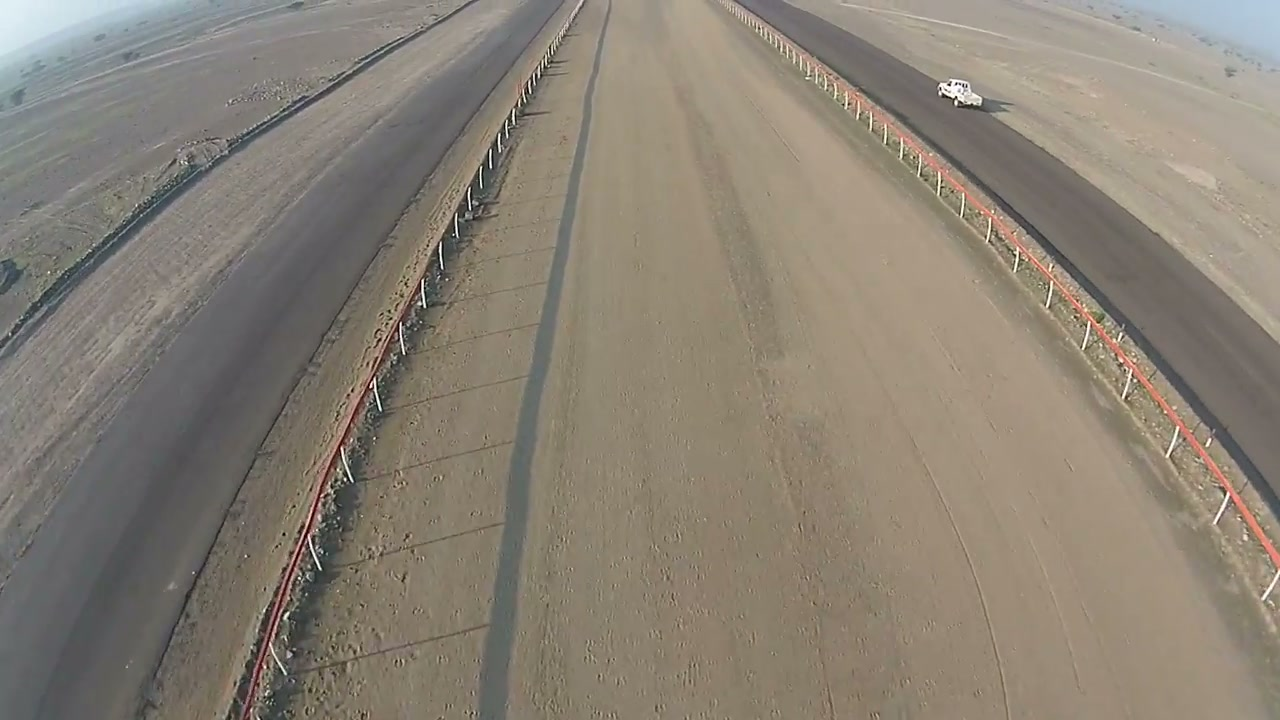animal_foot_print: (298, 415, 451, 713)
